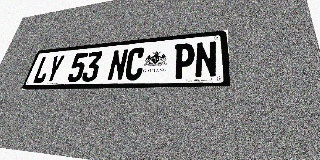3: (81, 51, 103, 82)
5: (66, 52, 89, 82)
C: (123, 47, 146, 81)
L: (32, 56, 53, 83)
N: (194, 41, 217, 78), (106, 49, 129, 81)
P: (172, 43, 195, 79)
Y: (44, 55, 66, 83)
